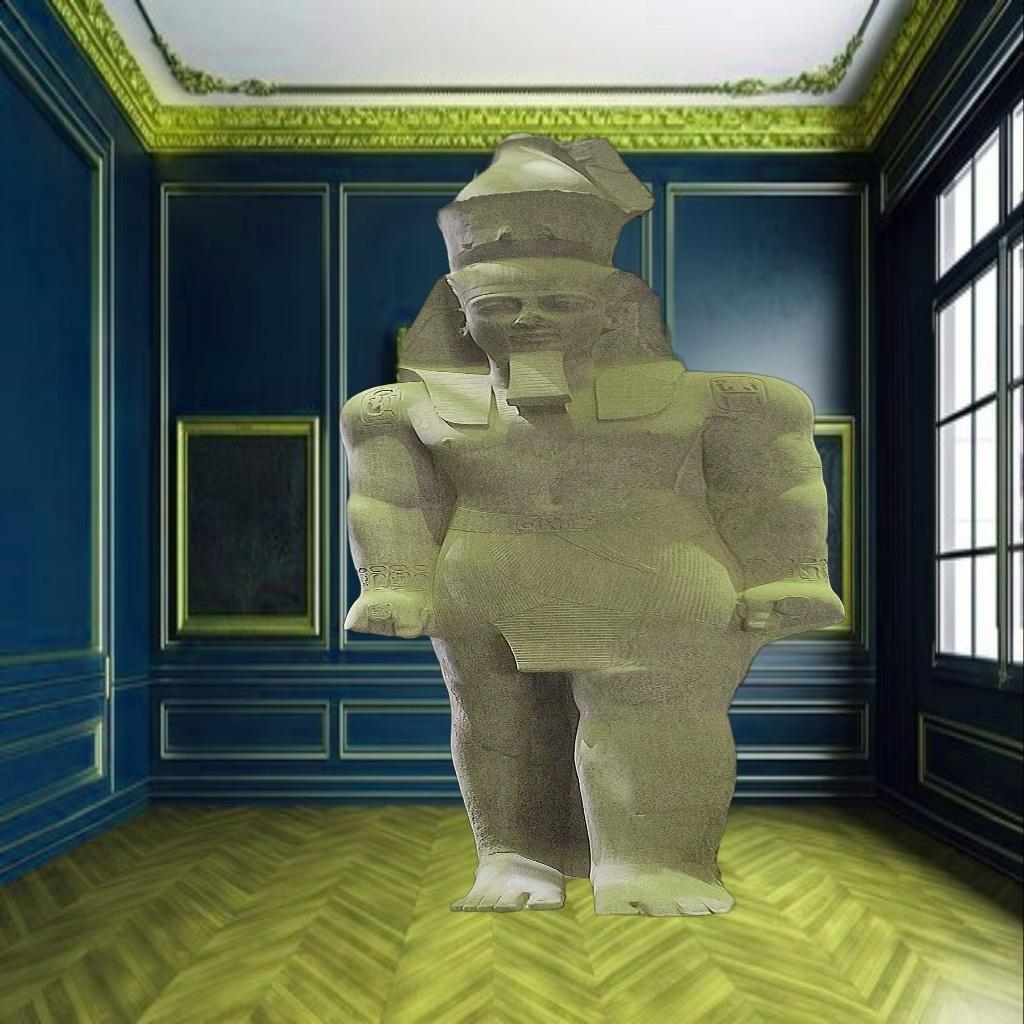Colossal Statue of Ramesses II beloved of Ptah: (332, 130, 854, 932)
